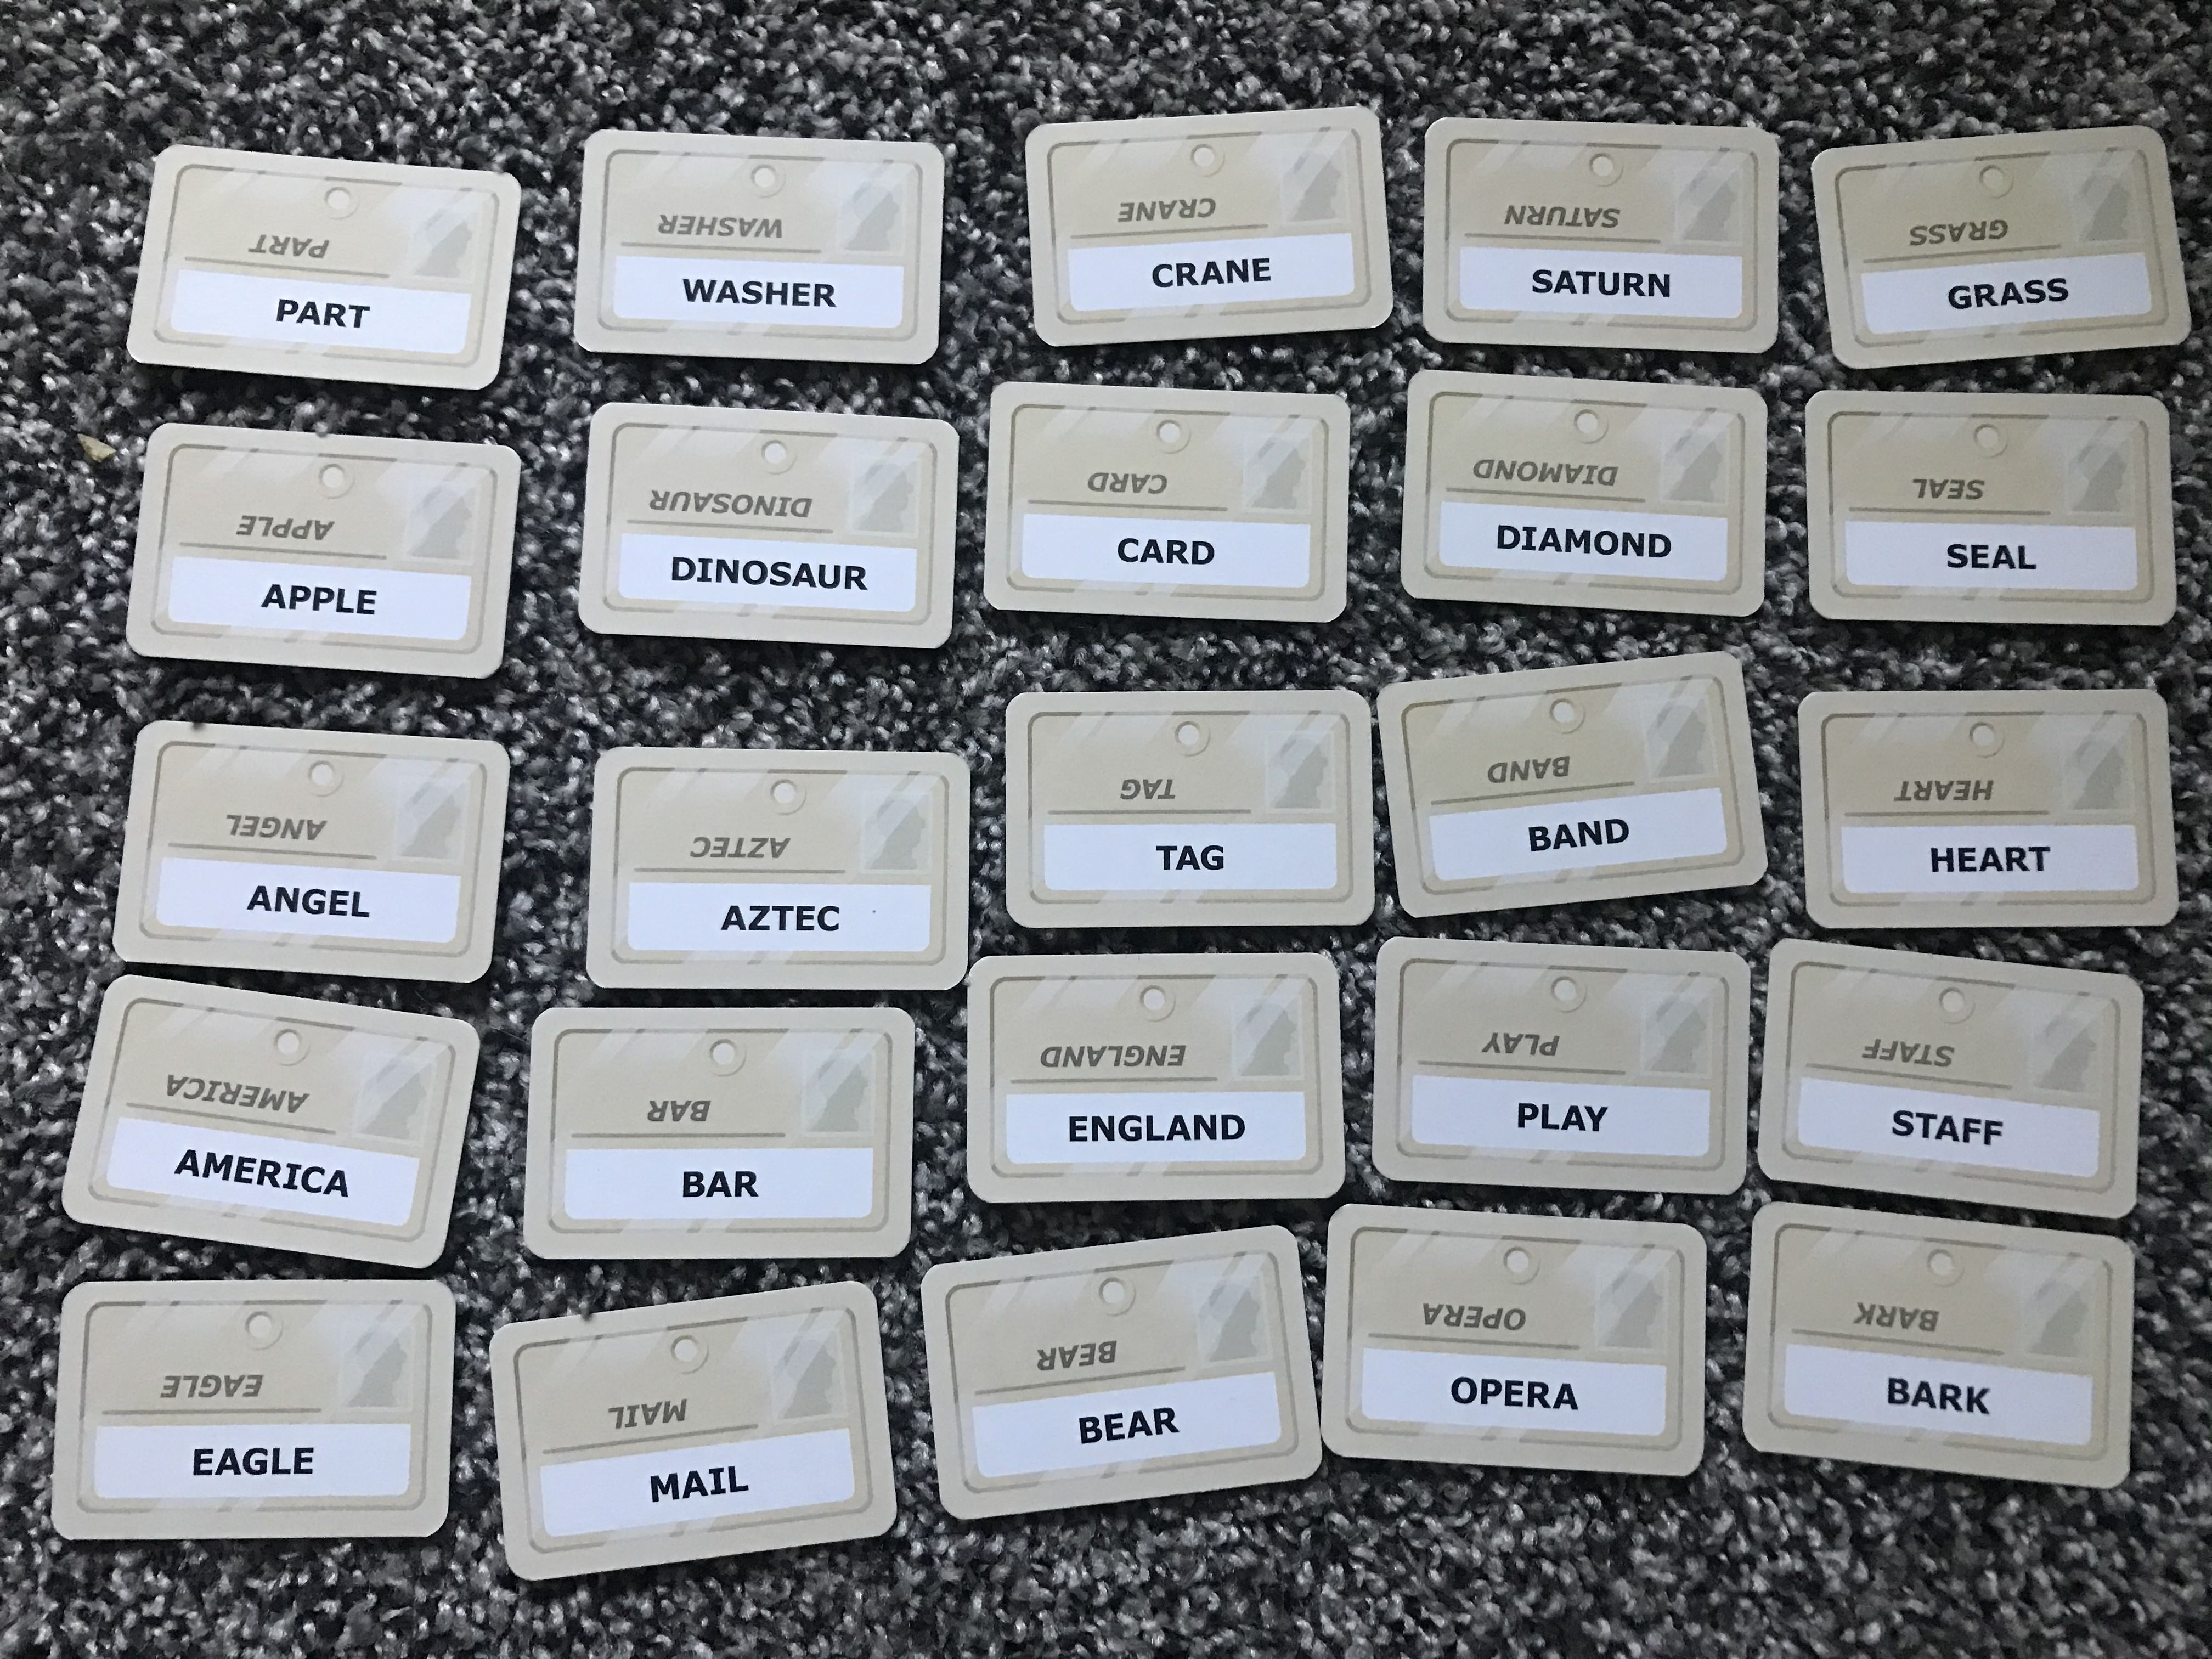A: (1548, 1373, 1585, 1417), (1122, 1403, 1153, 1450), (1932, 1108, 1961, 1157), (1557, 1098, 1588, 1143), (242, 878, 275, 920), (1534, 519, 1564, 565), (716, 899, 749, 939), (1163, 1107, 1191, 1150), (1172, 838, 1200, 880), (679, 1466, 707, 1507), (1977, 838, 2003, 882), (1550, 263, 1580, 301), (704, 1166, 733, 1204), (322, 1166, 348, 1208), (1137, 533, 1163, 573), (216, 1445, 244, 1481), (258, 577, 284, 615), (1989, 538, 2015, 577), (172, 1143, 197, 1183), (1550, 816, 1576, 852), (1996, 274, 2020, 312), (791, 558, 813, 598), (1912, 1377, 1932, 1420), (714, 274, 740, 305), (1197, 256, 1223, 288), (298, 296, 319, 331)
